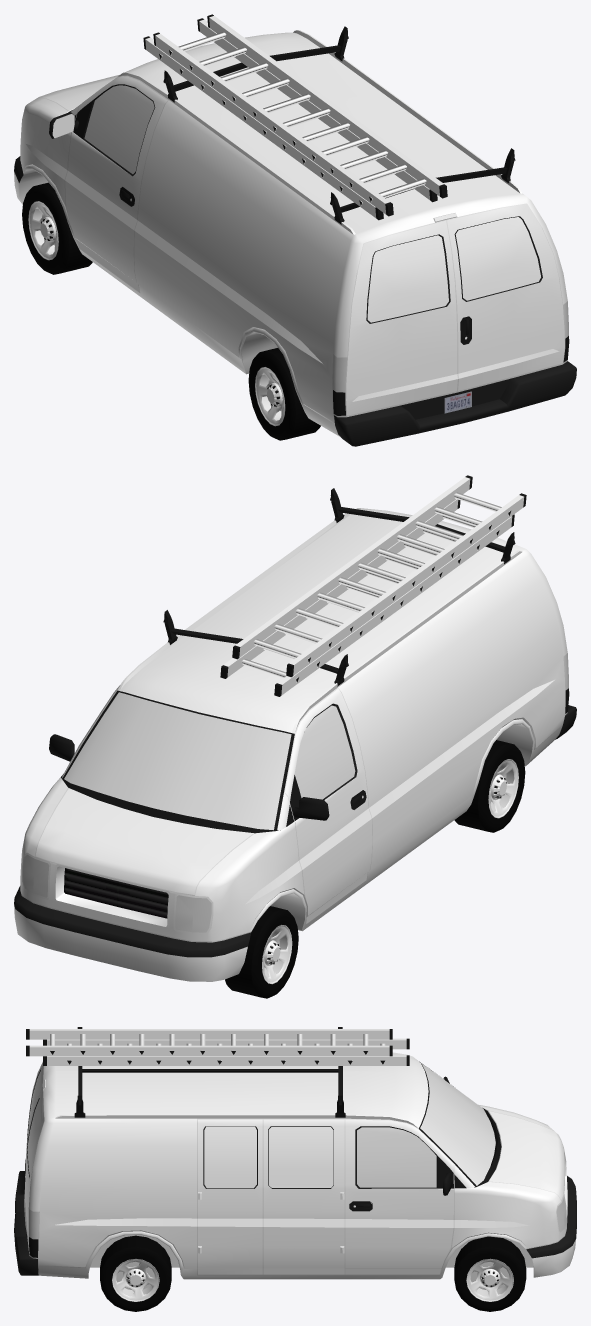
Rendered from va_rstr_servicevanb_07.glb.
3 views of the same model, one above another, from view 1: azimuth 30°, elevation 25°; view 2: azimuth 150°, elevation 25°; view 3: azimuth 270°, elevation 25° (orthographic). The views are drawn at different scales.
Visible parts, largest first — view 1: va_rstr_servicevanb_07/resources/vehicle/va_rstr_servicevanb (×6); view 2: va_rstr_servicevanb_07/resources/vehicle/va_rstr_servicevanb (×6); view 3: va_rstr_servicevanb_07/resources/vehicle/va_rstr_servicevanb (×6).
Part boxes in pixels (bbox=[...]): va_rstr_servicevanb_07/resources/vehicle/va_rstr_servicevanb (×6): bbox=[14, 14, 576, 446]; va_rstr_servicevanb_07/resources/vehicle/va_rstr_servicevanb (×6): bbox=[14, 475, 576, 998]; va_rstr_servicevanb_07/resources/vehicle/va_rstr_servicevanb (×6): bbox=[14, 1027, 576, 1311].
Size of the model in its own units: 2.48 by 2.36 by 5.54.
11 materials, 7 textured.
